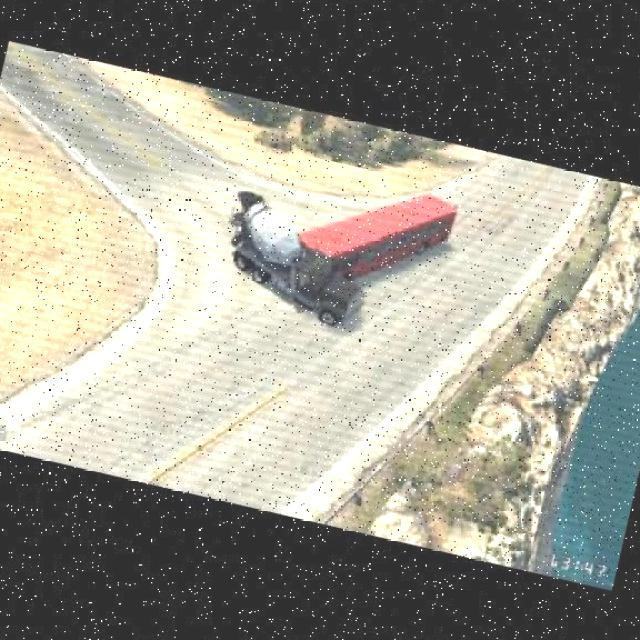accident: (190, 185, 404, 342)
